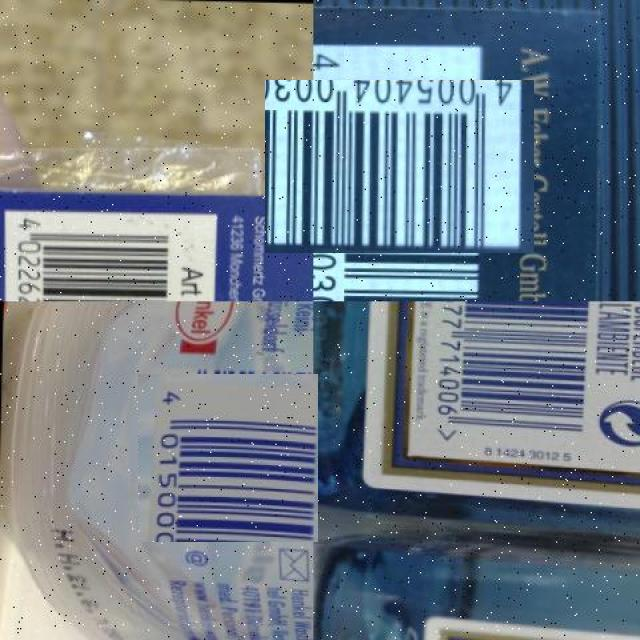Barcode: (289, 56, 511, 277), (141, 371, 316, 545), (427, 301, 597, 447), (8, 210, 216, 302)
